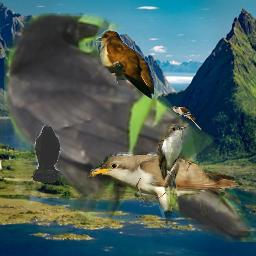Crow: (4, 13, 256, 242), (33, 125, 61, 183)
Cuckoo: (87, 152, 241, 225), (95, 30, 154, 100), (158, 121, 188, 211), (170, 106, 202, 131)
